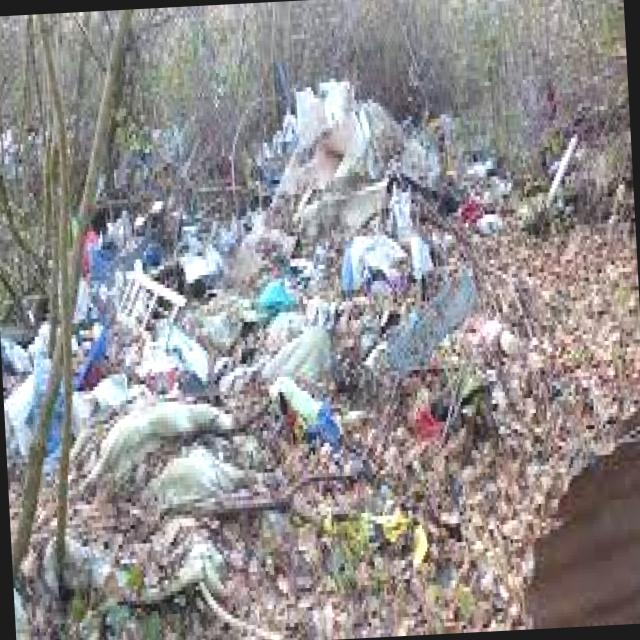garbage: (1, 88, 495, 628)
